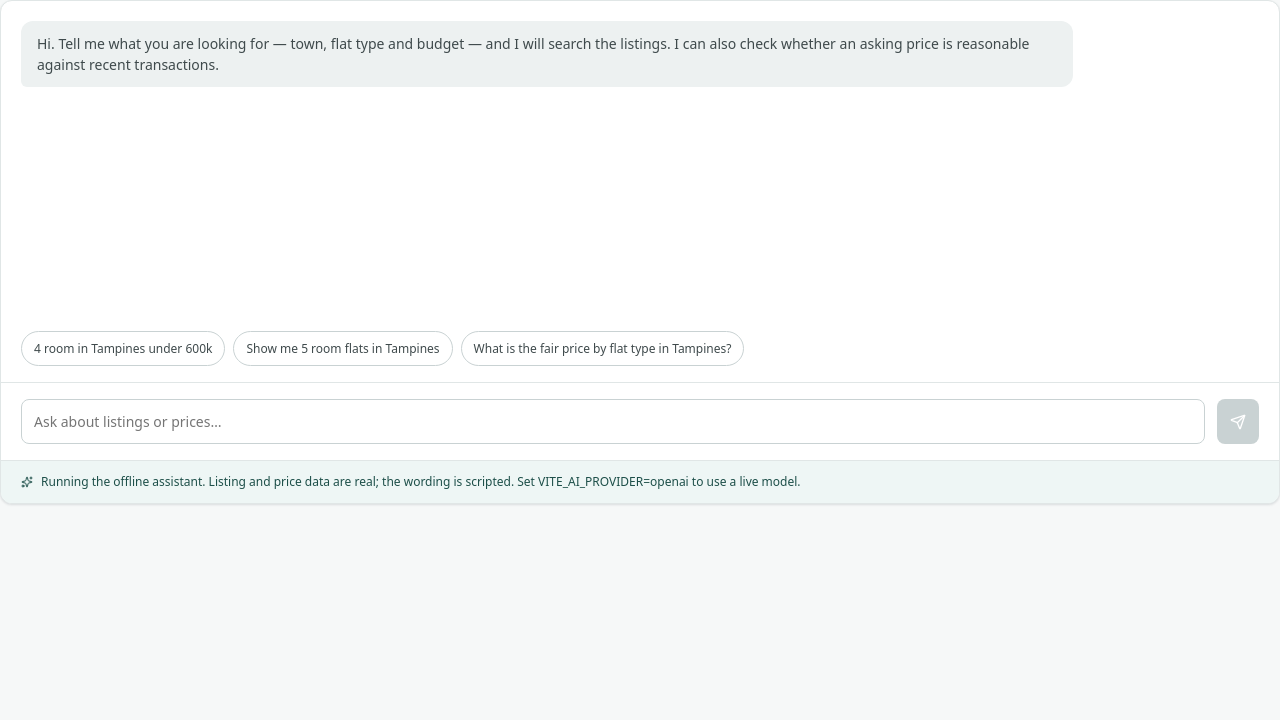
Test case: ChatPanel with the offline assistant › says so plainly when nothing matches
Type "5 room in bishan under 300k" into the field named "message the assistant".
click(613, 422); type("5 room in bishan under 300k")  # box [21, 399, 1205, 444]
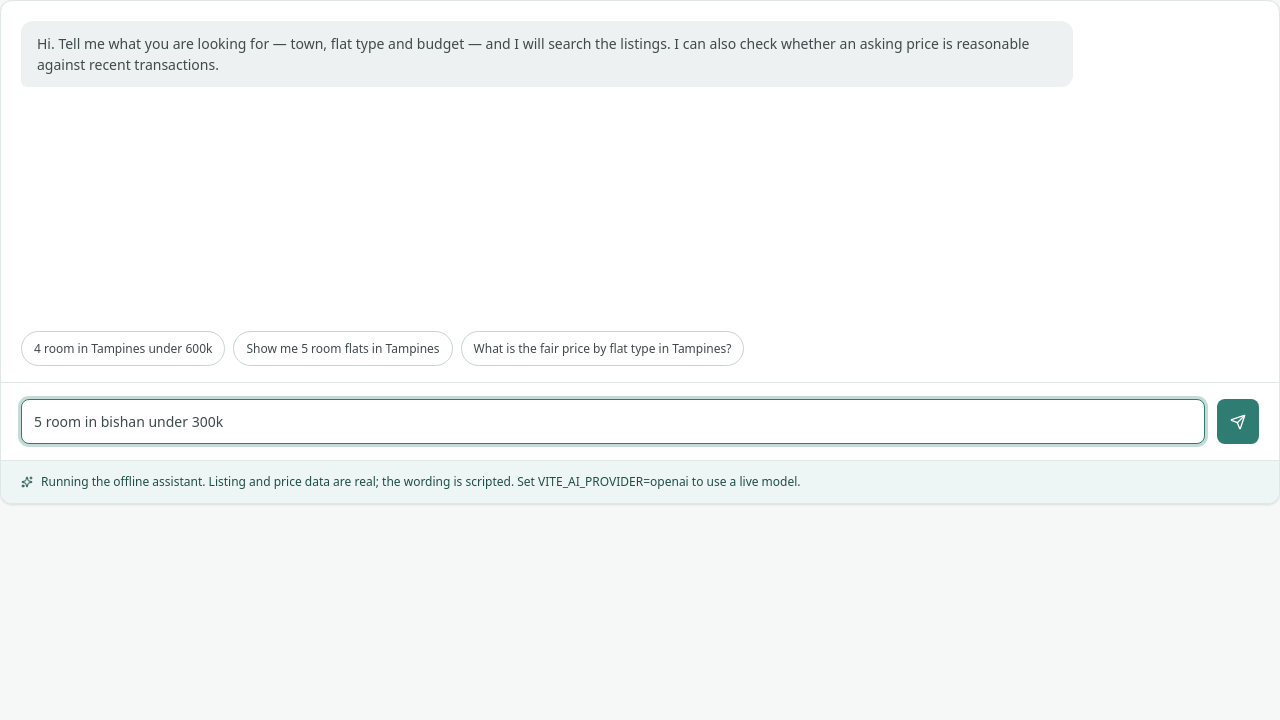
Click the button named "send".
click(1238, 422)  # box [1217, 399, 1259, 444]
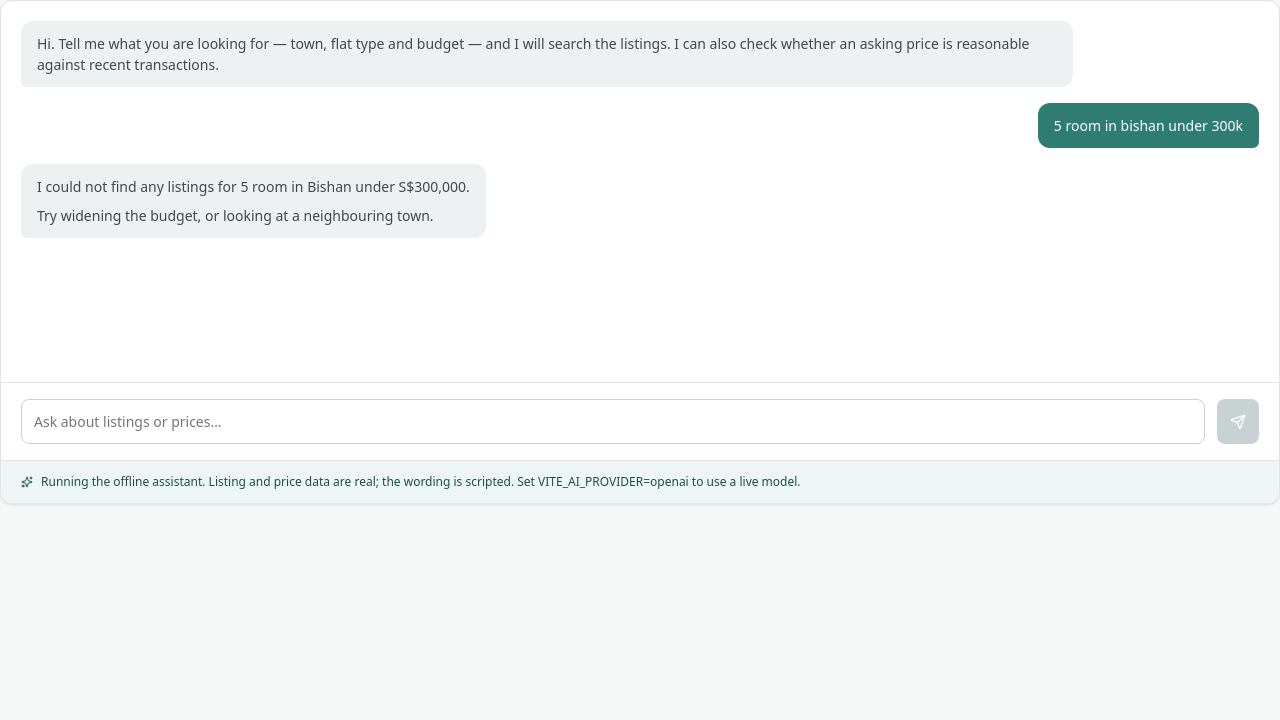
Check: the text "could not find any listings" is shown, box [37, 177, 470, 196]
